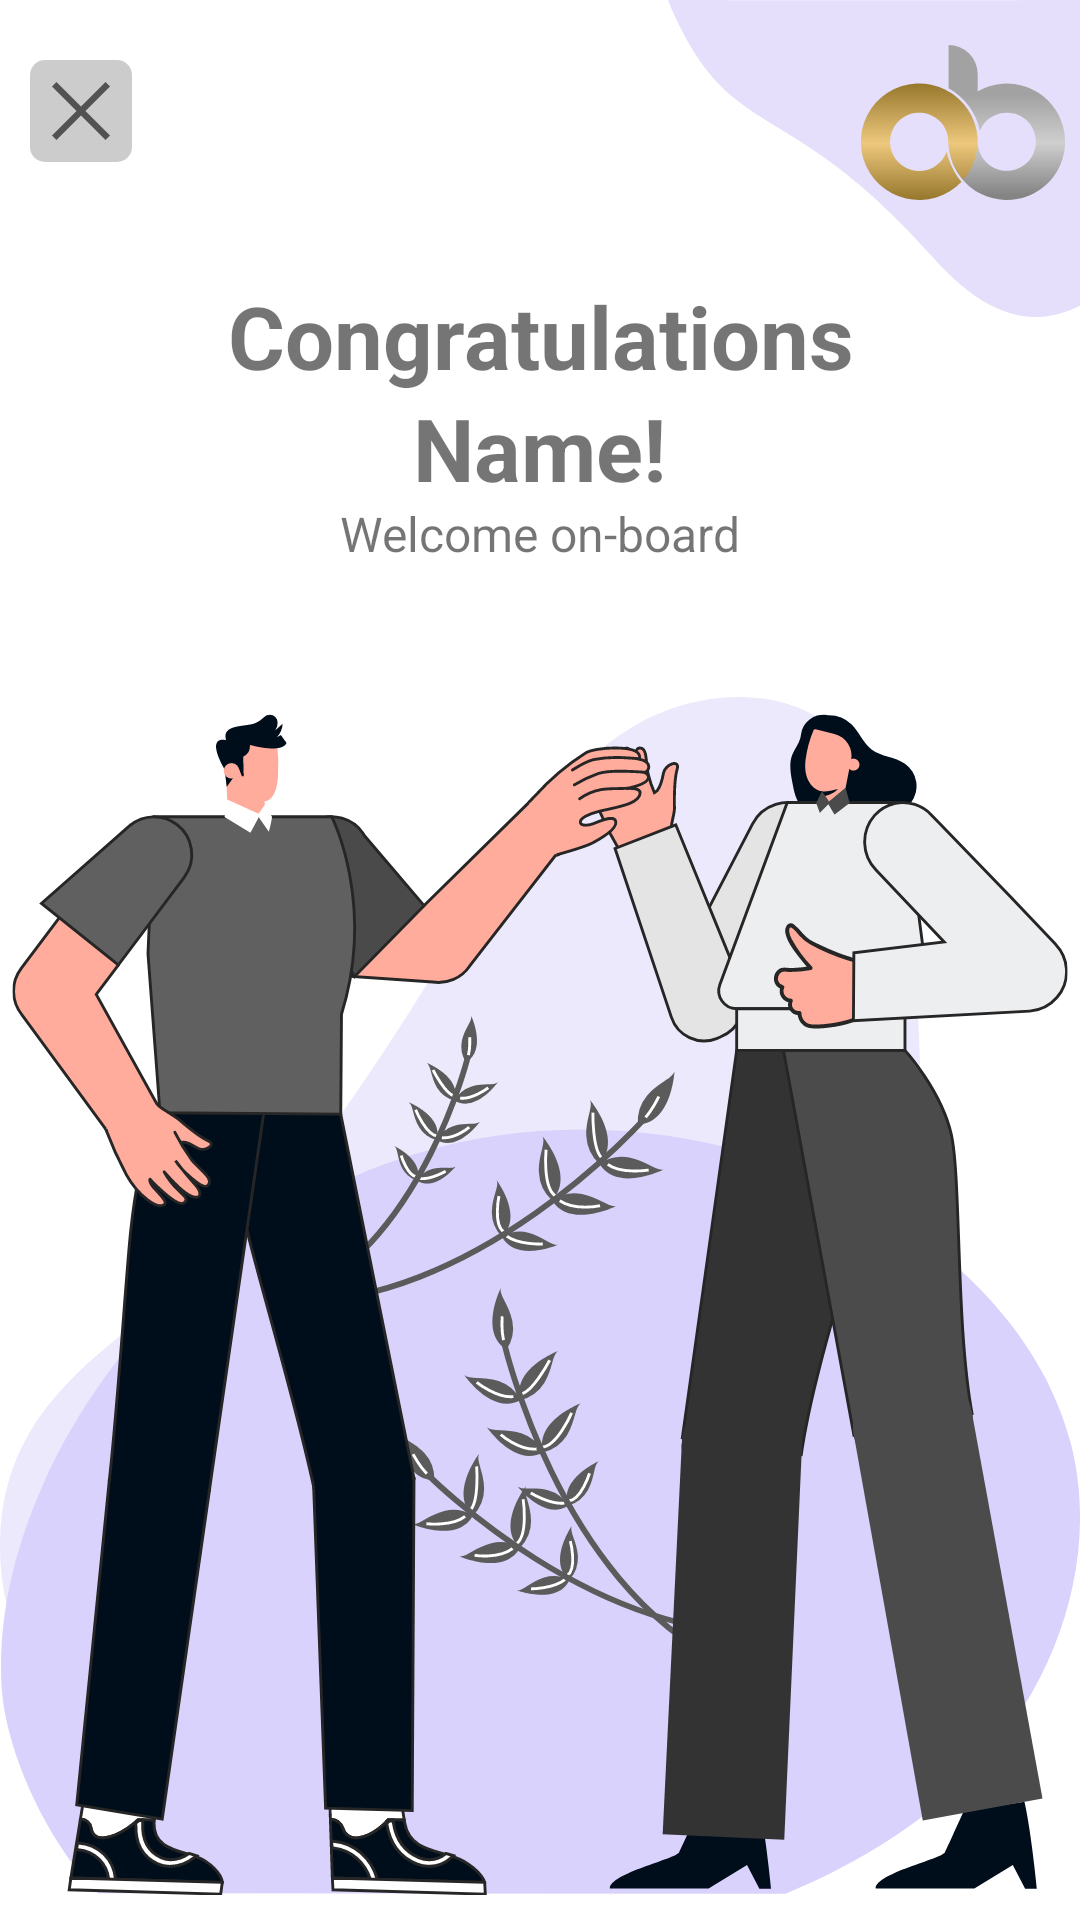

Named icons in this screenshot (1080×1920) and their bounding boxes, (x1, y1, x2, y2):
close open: (30, 60, 132, 162)
